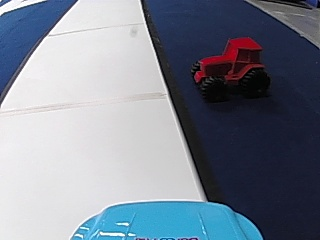tractor: (187, 35, 271, 102)
